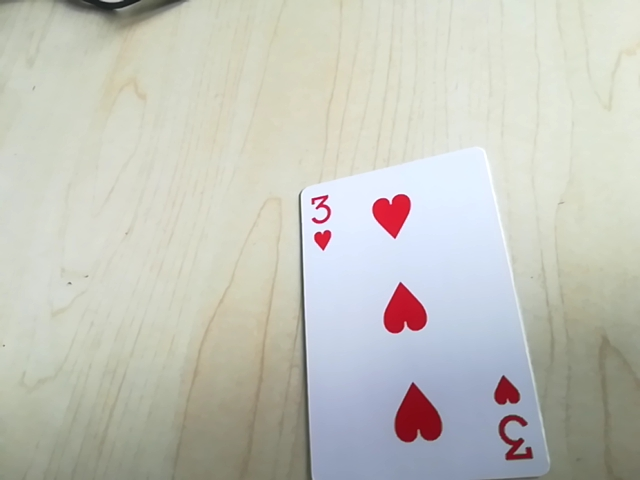hx 3: (486, 373, 537, 466), (299, 185, 338, 247)
